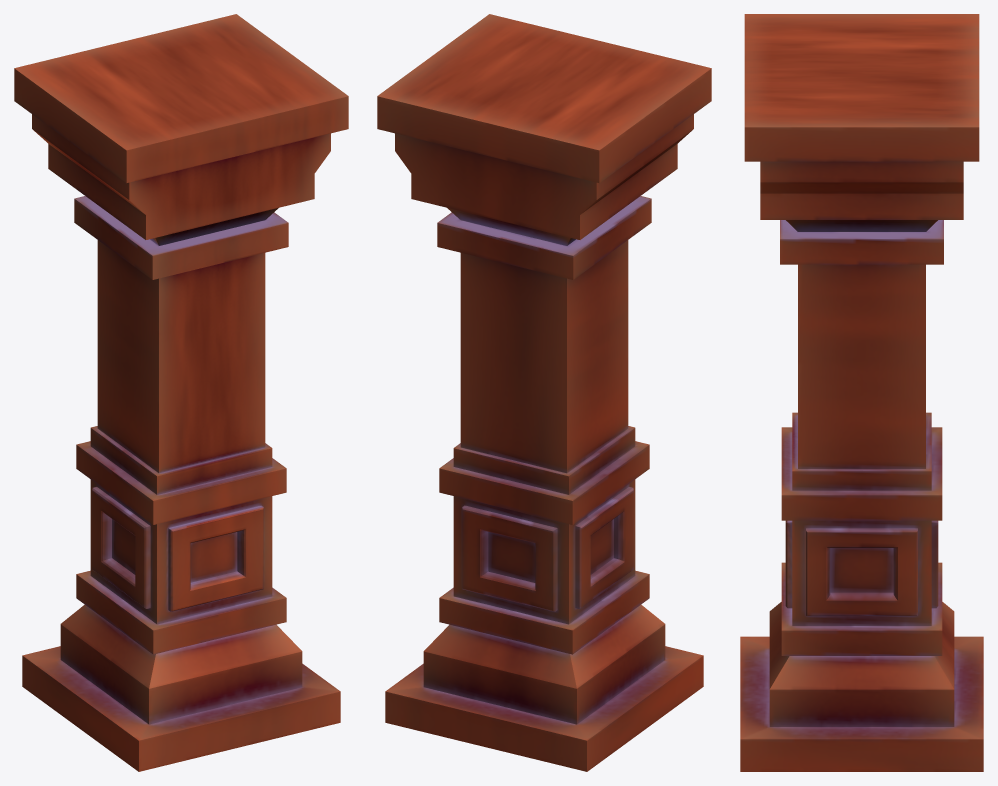
Rendered from columne_lvl2.fbx.
3 renders of one model, left to right at view 1: azimuth 30°, elevation 25°; view 2: azimuth 150°, elevation 25°; view 3: azimuth 270°, elevation 25°, orthographic. The views are drawn at different scales.
Visible parts, largest first — view 1: columne_v2.012; view 2: columne_v2.012; view 3: columne_v2.012.
Boxes of the visible parts, left/top/right/bottom form: columne_v2.012: left=14, top=14, right=348, bottom=771; columne_v2.012: left=377, top=14, right=711, bottom=771; columne_v2.012: left=740, top=14, right=983, bottom=771.
Bounding box in the file's own units: 267 × 715 × 243.
